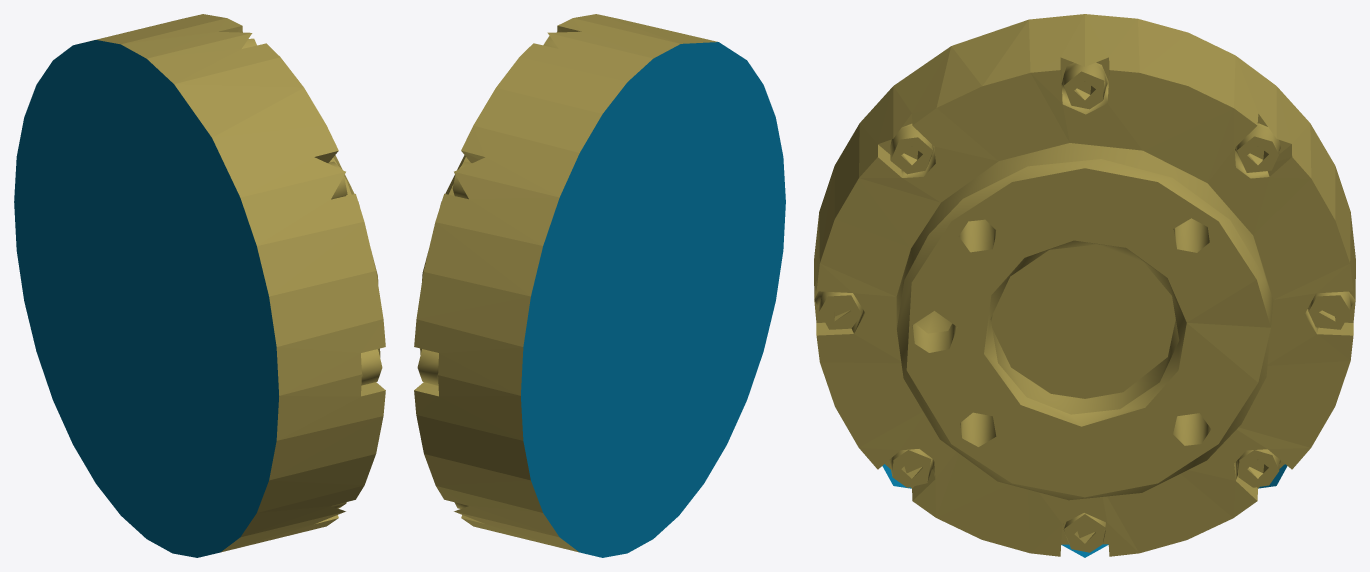
3 views of the same model, side by side, from view 1: azimuth 30°, elevation 25°; view 2: azimuth 150°, elevation 25°; view 3: azimuth 270°, elevation 25° (orthographic). The views are drawn at different scales.
Visible parts, largest first — view 1: link_6_t; view 2: link_6_t; view 3: link_6_t.
Part boxes in pixels (<box>): link_6_t: <box>14,14,385,557</box>; link_6_t: <box>414,14,785,557</box>; link_6_t: <box>814,14,1355,557</box>.
Bounding box in the file's own units: 0.023 × 0.072 × 0.072.
